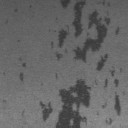red iron: (40, 0, 121, 128), (18, 56, 26, 80), (55, 73, 59, 80), (14, 8, 18, 13), (4, 19, 8, 24), (16, 39, 21, 43), (2, 72, 6, 76), (2, 99, 6, 103), (29, 4, 32, 8)
